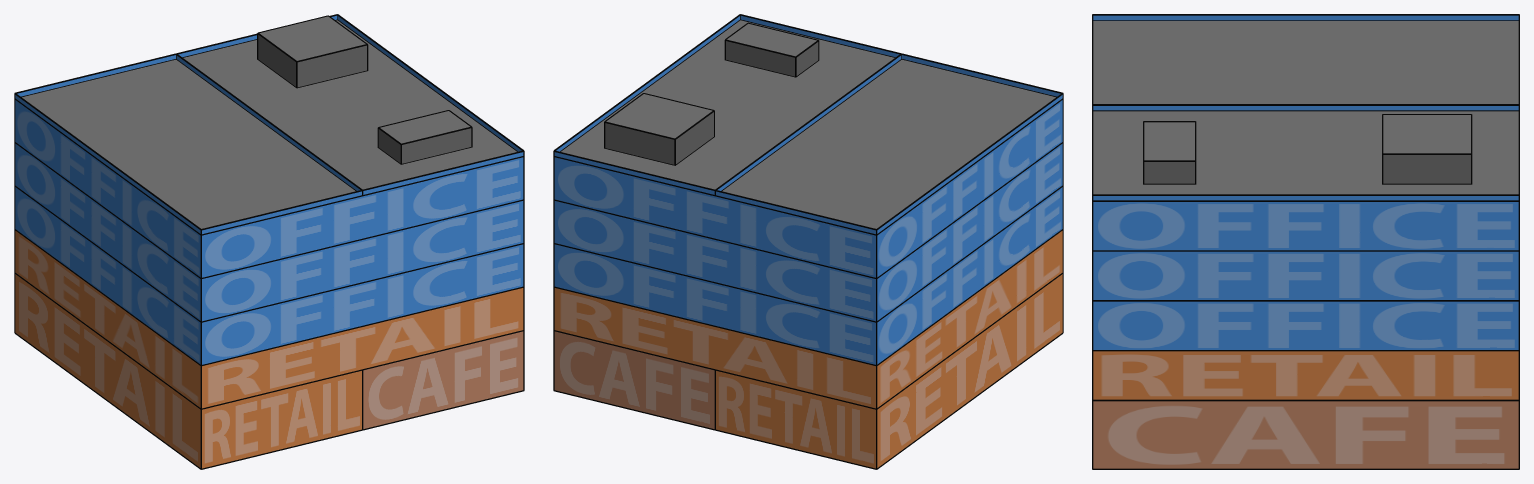
3 views of the same model, side by side, from view 1: azimuth 30°, elevation 25°; view 2: azimuth 150°, elevation 25°; view 3: azimuth 270°, elevation 25° (orthographic). The views are drawn at different scales.
Visible parts, largest first — view 1: office_diagrammatic2, floor_slabs_2, retail_diagrammatic2, black_outline, cafe_diagrammatic2; view 2: office_diagrammatic2, floor_slabs_2, retail_diagrammatic2, black_outline, cafe_diagrammatic2; view 3: floor_slabs_2, office_diagrammatic2, cafe_diagrammatic2, retail_diagrammatic2, black_outline.
Boxes of the visible parts, x1=… form: office_diagrammatic2: x1=15, y1=15, x2=523, y2=364; floor_slabs_2: x1=22, y1=16, x2=516, y2=228; retail_diagrammatic2: x1=15, y1=231, x2=523, y2=468; black_outline: x1=14, y1=14, x2=524, y2=469; cafe_diagrammatic2: x1=363, y1=331, x2=523, y2=428; office_diagrammatic2: x1=554, y1=15, x2=1062, y2=364; floor_slabs_2: x1=561, y1=20, x2=1055, y2=228; retail_diagrammatic2: x1=554, y1=231, x2=1062, y2=468; black_outline: x1=553, y1=14, x2=1063, y2=469; cafe_diagrammatic2: x1=554, y1=331, x2=714, y2=428; floor_slabs_2: x1=1093, y1=21, x2=1518, y2=194; office_diagrammatic2: x1=1093, y1=15, x2=1518, y2=349; cafe_diagrammatic2: x1=1093, y1=401, x2=1518, y2=468; retail_diagrammatic2: x1=1093, y1=351, x2=1518, y2=399; black_outline: x1=1092, y1=14, x2=1519, y2=469.
Size of the model in its own units: 32.68 by 25.24 by 32.68.
